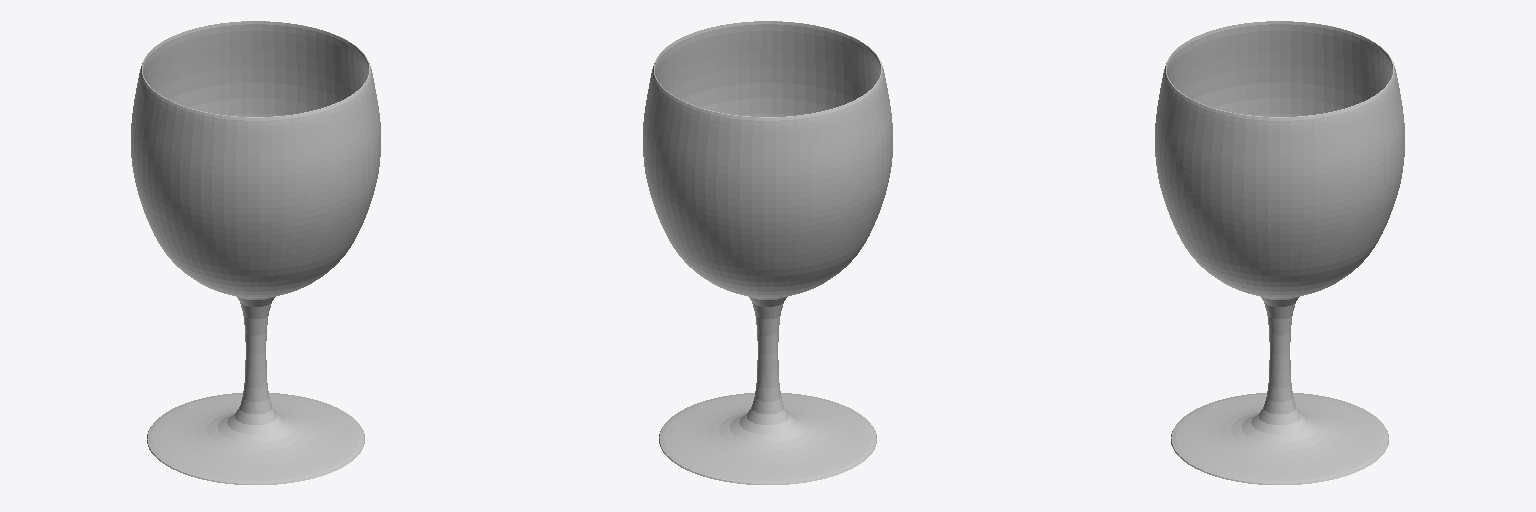
File: GlassWine.obj
3 views of the same model, side by side, from view 1: azimuth 30°, elevation 25°; view 2: azimuth 150°, elevation 25°; view 3: azimuth 270°, elevation 25° (orthographic).
Parts seen in each view (by area): view 1: WineGlass; view 2: WineGlass; view 3: WineGlass.
Boxes of the visible parts, box(x1,y1,x2,y2) form: WineGlass: box(131, 21, 380, 484); WineGlass: box(643, 21, 892, 484); WineGlass: box(1155, 21, 1404, 484).
Bounding box in the file's own units: 0.0828 × 0.1363 × 0.0828.